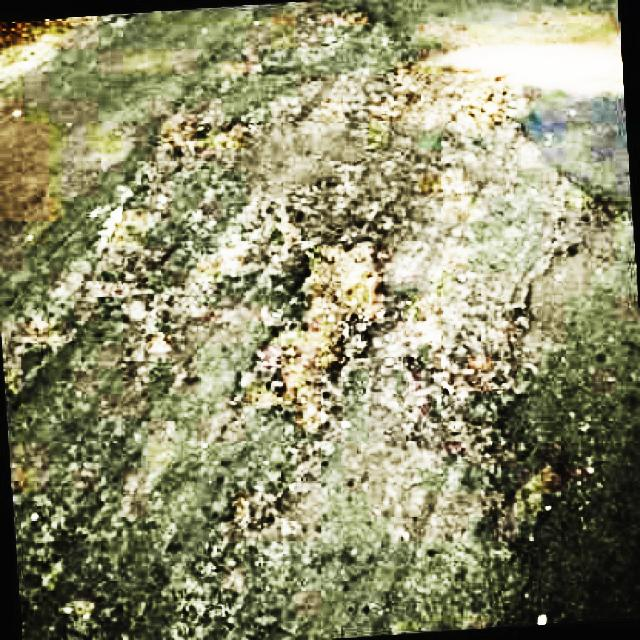pothole: (242, 234, 396, 432)
